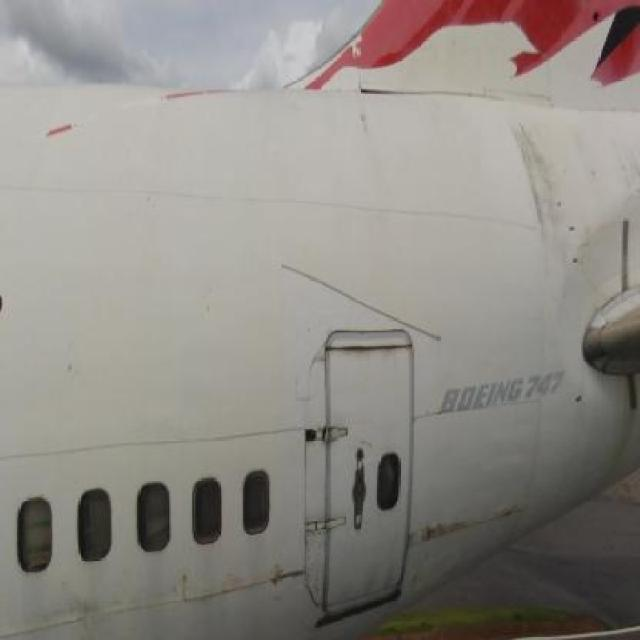Rust: (509, 110, 573, 255), (412, 508, 505, 541), (607, 124, 638, 198), (359, 558, 404, 607), (328, 339, 412, 363), (615, 386, 640, 465)
Scartch: (259, 557, 307, 595), (168, 569, 198, 603)
